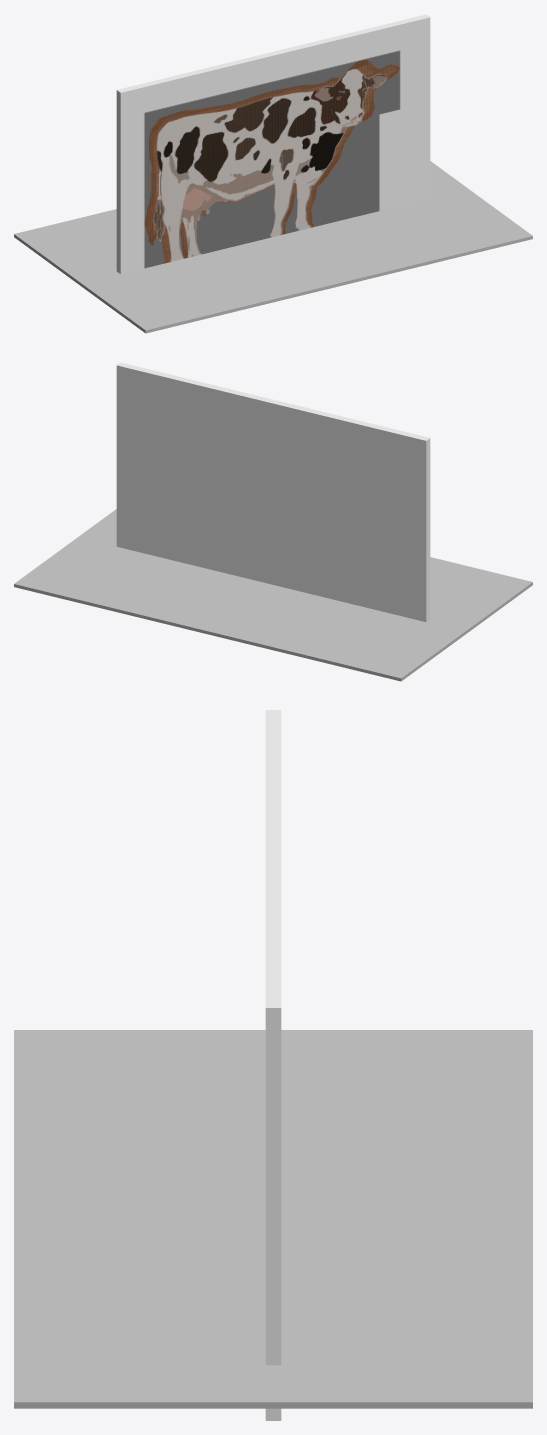
File: CowCardboard.fbx
The picture shows the model from 3 angles, top to bottom: view 1: azimuth 30°, elevation 25°; view 2: azimuth 150°, elevation 25°; view 3: azimuth 270°, elevation 25°; orthographic projection. The views are drawn at different scales.
Parts seen in each view (by area): view 1: pCube3; view 2: pCube3; view 3: pCube3.
Part boxes in pixels (x1,y1,x2,y2): pCube3: (14,14,532,333); pCube3: (14,362,532,681); pCube3: (14,710,532,1420).
Bounding box in the file's own units: 10.13 × 5.24 × 5.97.
